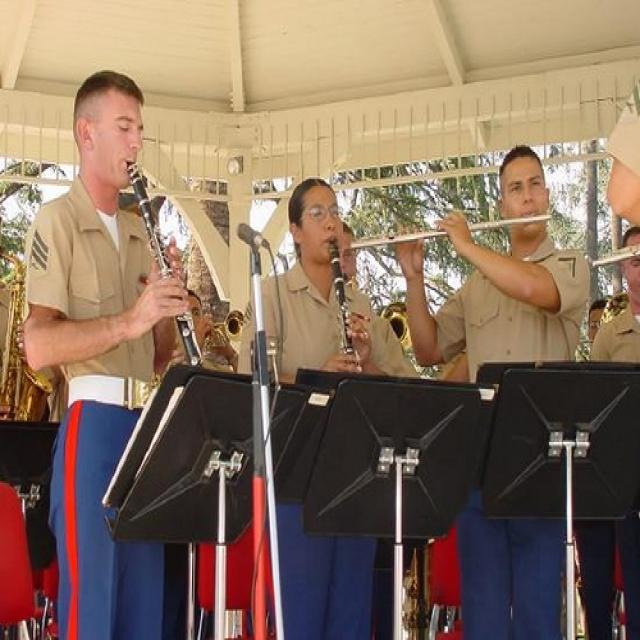clarinet: (123, 162, 213, 376), (321, 240, 367, 383)
saxophone: (0, 246, 52, 430)
